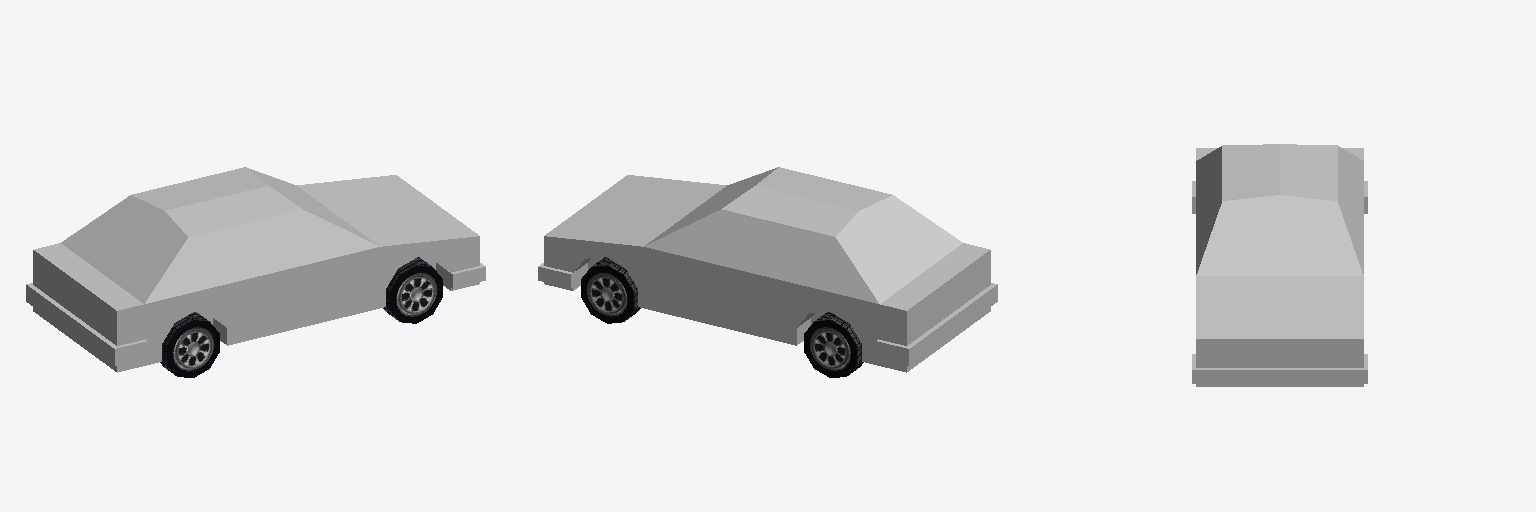
The picture shows the model from 3 angles: view 1: azimuth 30°, elevation 25°; view 2: azimuth 150°, elevation 25°; view 3: azimuth 270°, elevation 25°; orthographic projection.
Parts seen in each view (by area): view 1: car_body, tire_back_right, tire_front_right, bumper_back, bumper_front; view 2: car_body, tire_back_left, tire_front_left, bumper_back, bumper_front; view 3: car_body, bumper_front.
Part boxes in pixels (x1,y1,x2,y2): car_body: (33, 167, 479, 372); tire_back_right: (160, 312, 219, 377); tire_front_right: (383, 257, 442, 323); bumper_back: (26, 283, 147, 365); bumper_front: (436, 263, 485, 288); car_body: (544, 167, 990, 372); tire_back_left: (804, 312, 863, 377); tire_front_left: (581, 257, 640, 323); bumper_back: (876, 283, 997, 365); bumper_front: (538, 263, 587, 288); car_body: (1196, 144, 1363, 386); bumper_front: (1192, 354, 1367, 383).
Size of the model in its own units: 4.09 by 1.42 by 1.69.
2 materials, 1 textured.